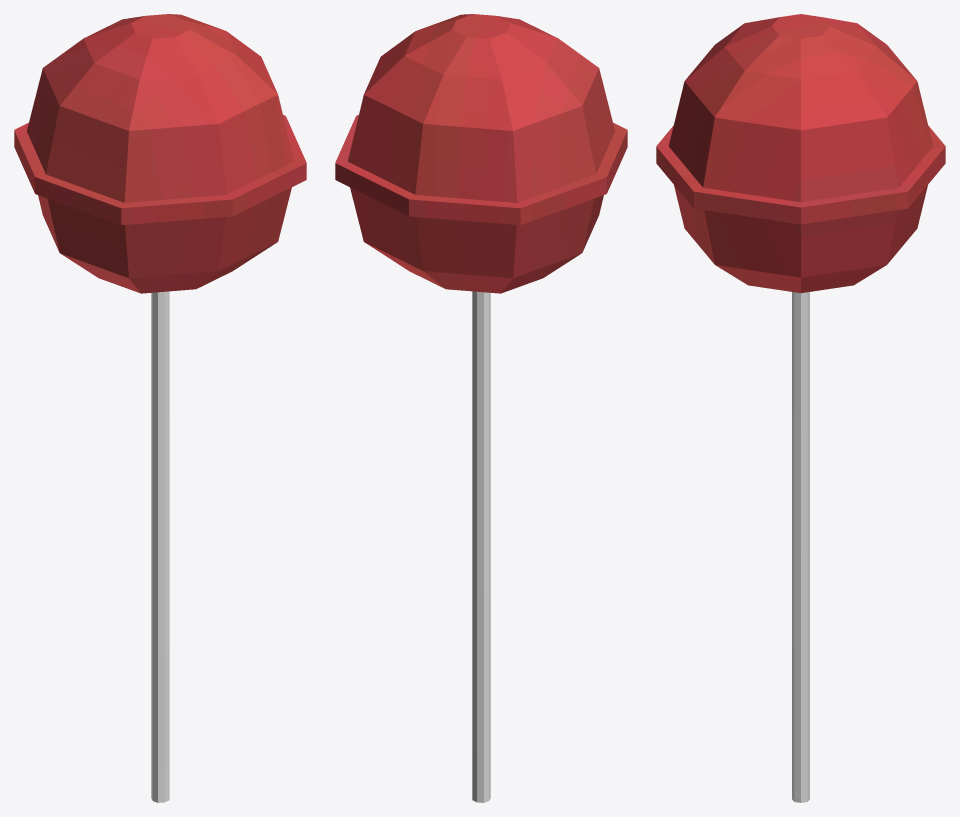
Rendered from lollipop-by-poly-by-google-4zZE7UiKdU3.glb.
3 views of the same model, side by side, from view 1: azimuth 30°, elevation 25°; view 2: azimuth 150°, elevation 25°; view 3: azimuth 270°, elevation 25° (orthographic).
Parts seen in each view (by area): view 1: Cube.017_Cube.027; view 2: Cube.017_Cube.027; view 3: Cube.017_Cube.027.
Boxes of the visible parts, x1=… form: Cube.017_Cube.027: x1=14, y1=14, x2=306, y2=802; Cube.017_Cube.027: x1=335, y1=14, x2=627, y2=802; Cube.017_Cube.027: x1=656, y1=14, x2=945, y2=802.
Bounding box in the file's own units: 0.562 × 1.65 × 0.562.
2 materials, 2 textured.
